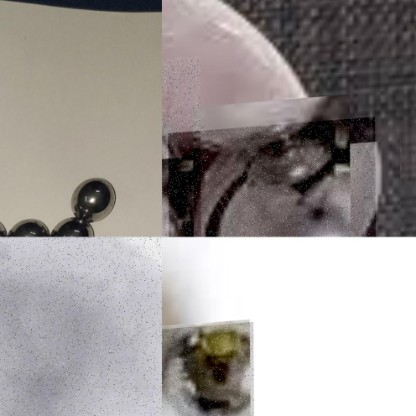ironball: (0, 236, 161, 415), (167, 120, 374, 236), (161, 323, 252, 415), (161, 57, 200, 236), (68, 174, 124, 222), (6, 212, 54, 238), (51, 218, 105, 235)
